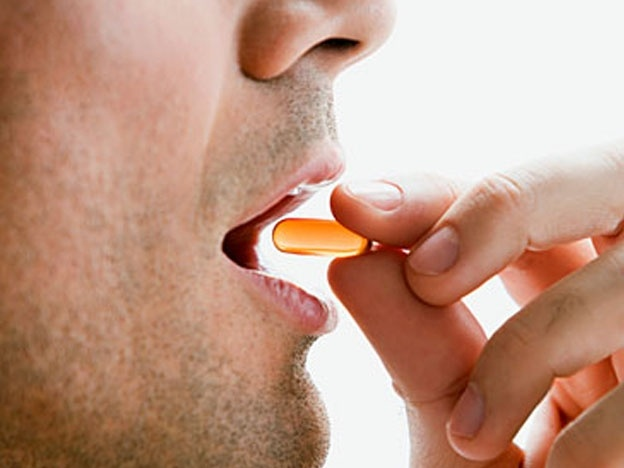pills: (270, 219, 375, 258)
